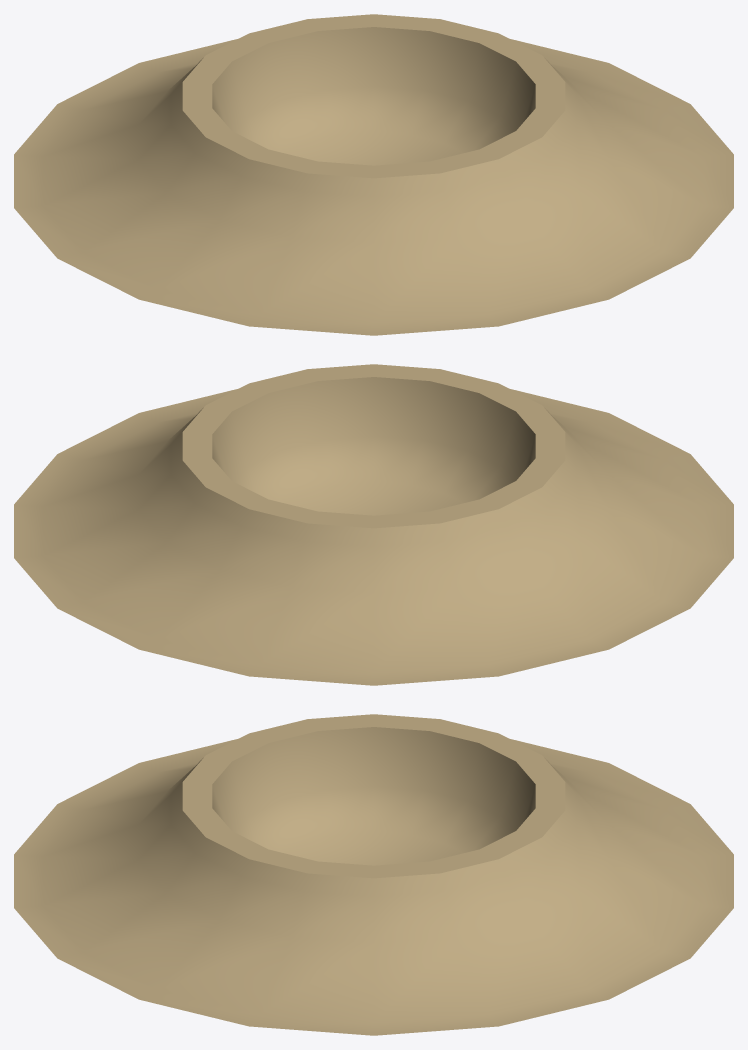
The model's file is Crater.fbx.
The picture shows the model from 3 angles, top to bottom: view 1: azimuth 30°, elevation 25°; view 2: azimuth 150°, elevation 25°; view 3: azimuth 270°, elevation 25°; orthographic projection.
Parts seen in each view (by area): view 1: Cylinder001; view 2: Cylinder001; view 3: Cylinder001.
Part boxes in pixels (x1,y1,x2,y2): Cylinder001: [14, 14, 733, 335]; Cylinder001: [14, 364, 733, 685]; Cylinder001: [14, 714, 733, 1035].
Bounding box in the file's own units: 176 × 173 × 22.55.
